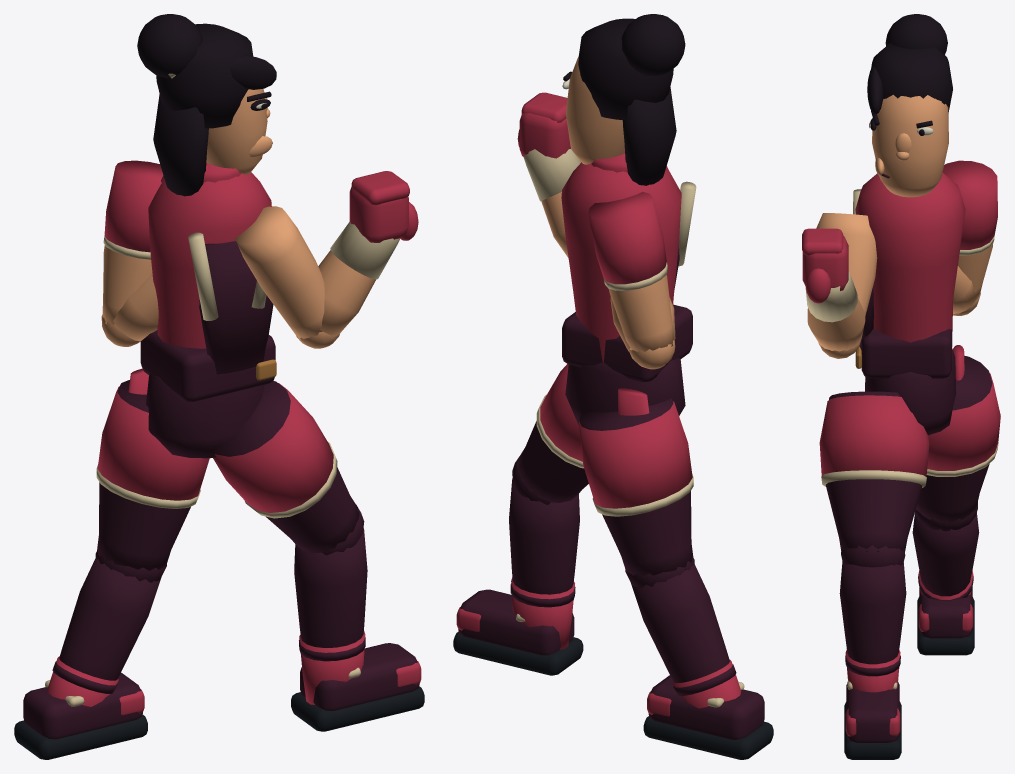
The model's file is mei-rig-v4.glb.
3 renders of one model, left to right at view 1: azimuth 30°, elevation 25°; view 2: azimuth 150°, elevation 25°; view 3: azimuth 270°, elevation 25°, orthographic. The views are drawn at different scales.
Visible parts, largest first — view 1: mei__torso_surface, mei__head_surface, mei__thighF_surface, mei__thighB_surface, mei__shinB_surface, mei__shinF_surface, mei__upperArmF_surface, mei__footB_surface, mei__footF_surface, mei__upperArmB_surface, mei__pelvis_surface, mei__forearmF_surface (+2 smaller); view 2: mei__thighB_surface, mei__head_surface, mei__torso_surface, mei__upperArmB_surface, mei__shinB_surface, mei__shinF_surface, mei__footB_surface, mei__footF_surface, mei__thighF_surface, mei__pelvis_surface, mei__handF_surface, mei__forearmF_surface (+1 smaller); view 3: mei__torso_surface, mei__thighF_surface, mei__head_surface, mei__thighB_surface, mei__shinF_surface, mei__upperArmB_surface, mei__shinB_surface, mei__footF_surface, mei__footB_surface, mei__pelvis_surface, mei__handF_surface, mei__forearmF_surface (+2 smaller).
Part boxes in pixels (x1,y1,x2,y2): mei__torso_surface: (140,162,276,401); mei__head_surface: (137,14,276,196); mei__thighF_surface: (213,381,364,555); mei__thighB_surface: (95,380,209,582); mei__shinB_surface: (47,558,161,706); mei__shinF_surface: (294,528,367,704); mei__upperArmF_surface: (235,206,339,348); mei__footB_surface: (14,672,147,759); mei__footF_surface: (291,643,424,731); mei__upperArmB_surface: (101,160,163,346); mei__pelvis_surface: (146,373,264,458); mei__forearmF_surface: (318,221,400,336); mei__thighB_surface: (579,398,694,587); mei__head_surface: (562,14,685,185); mei__torso_surface: (561,153,696,382); mei__upperArmB_surface: (588,191,675,369); mei__shinB_surface: (631,564,741,708); mei__shinF_surface: (509,478,579,649); mei__footB_surface: (643,675,773,759); mei__footF_surface: (453,589,583,675); mei__thighF_surface: (512,364,588,504); mei__pelvis_surface: (565,358,685,424); mei__handF_surface: (517,92,570,158); mei__forearmF_surface: (523,149,581,257); mei__torso_surface: (853,173,965,378); mei__thighF_surface: (819,391,929,567); mei__head_surface: (867,14,952,197); mei__thighB_surface: (915,355,1000,531); mei__shinF_surface: (839,561,906,692); mei__upperArmB_surface: (942,160,997,315); mei__shinB_surface: (912,512,979,600); mei__footF_surface: (844,680,901,759); mei__footB_surface: (917,587,974,655); mei__pelvis_surface: (865,348,956,435); mei__handF_surface: (802,228,848,303); mei__forearmF_surface: (805,271,865,351).
Size of the model in its own units: 1.74 by 3.45 by 0.9549.
